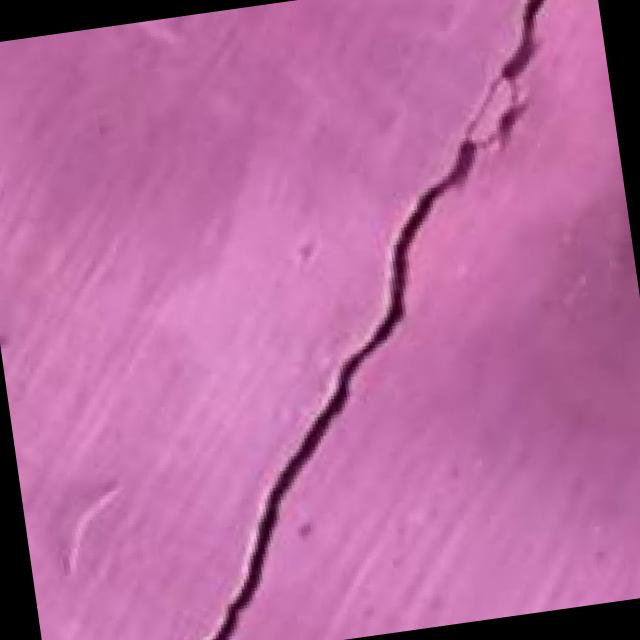crack: (132, 0, 639, 640)
